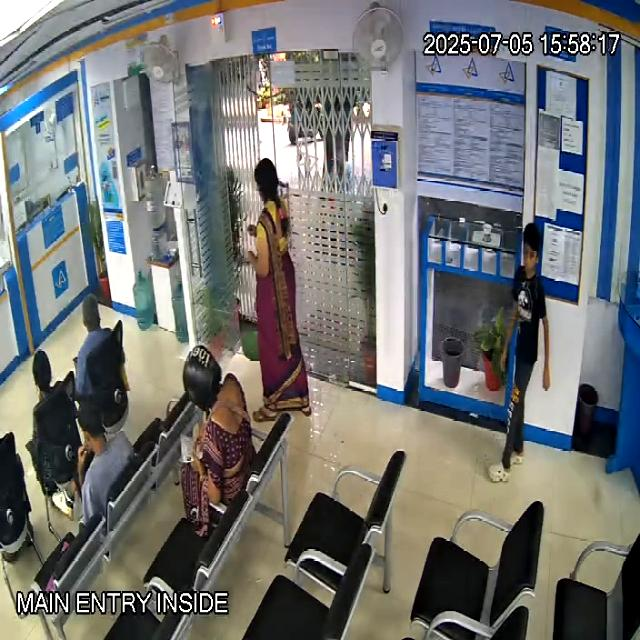helmet: (183, 344, 221, 409)
no_helmet: (254, 157, 278, 202), (522, 222, 540, 276), (31, 349, 52, 390), (82, 293, 98, 332)
